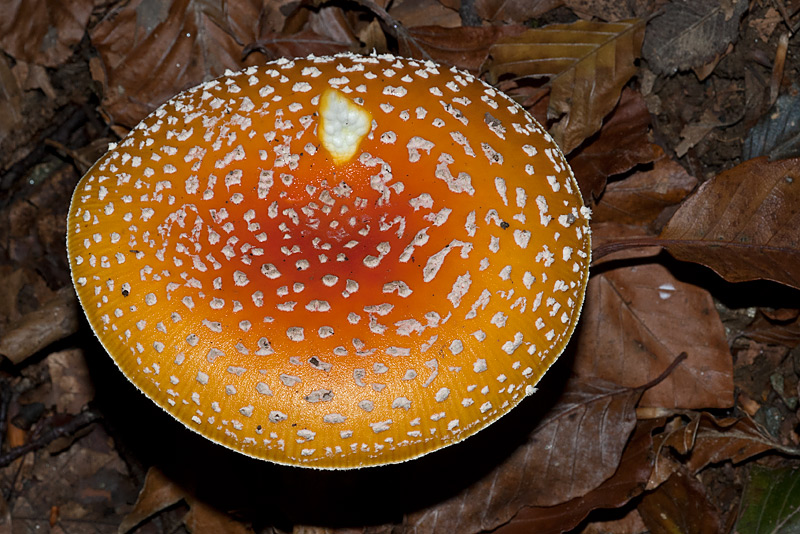orange: (66, 54, 589, 468)
